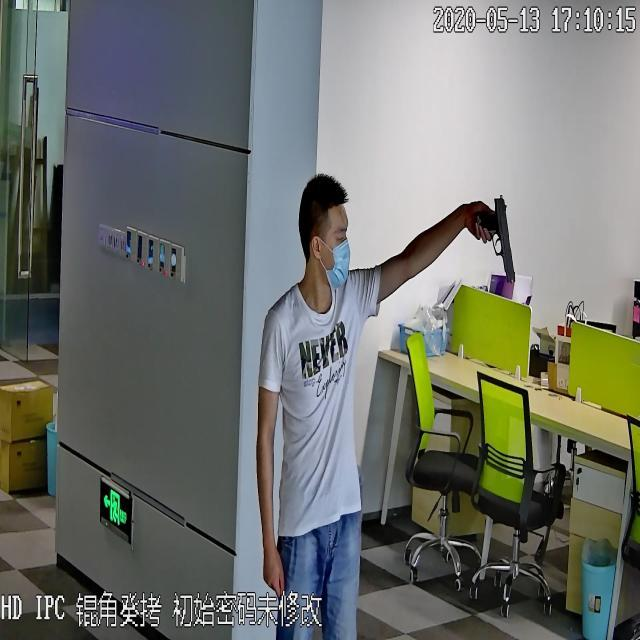gun: (476, 187, 518, 279)
